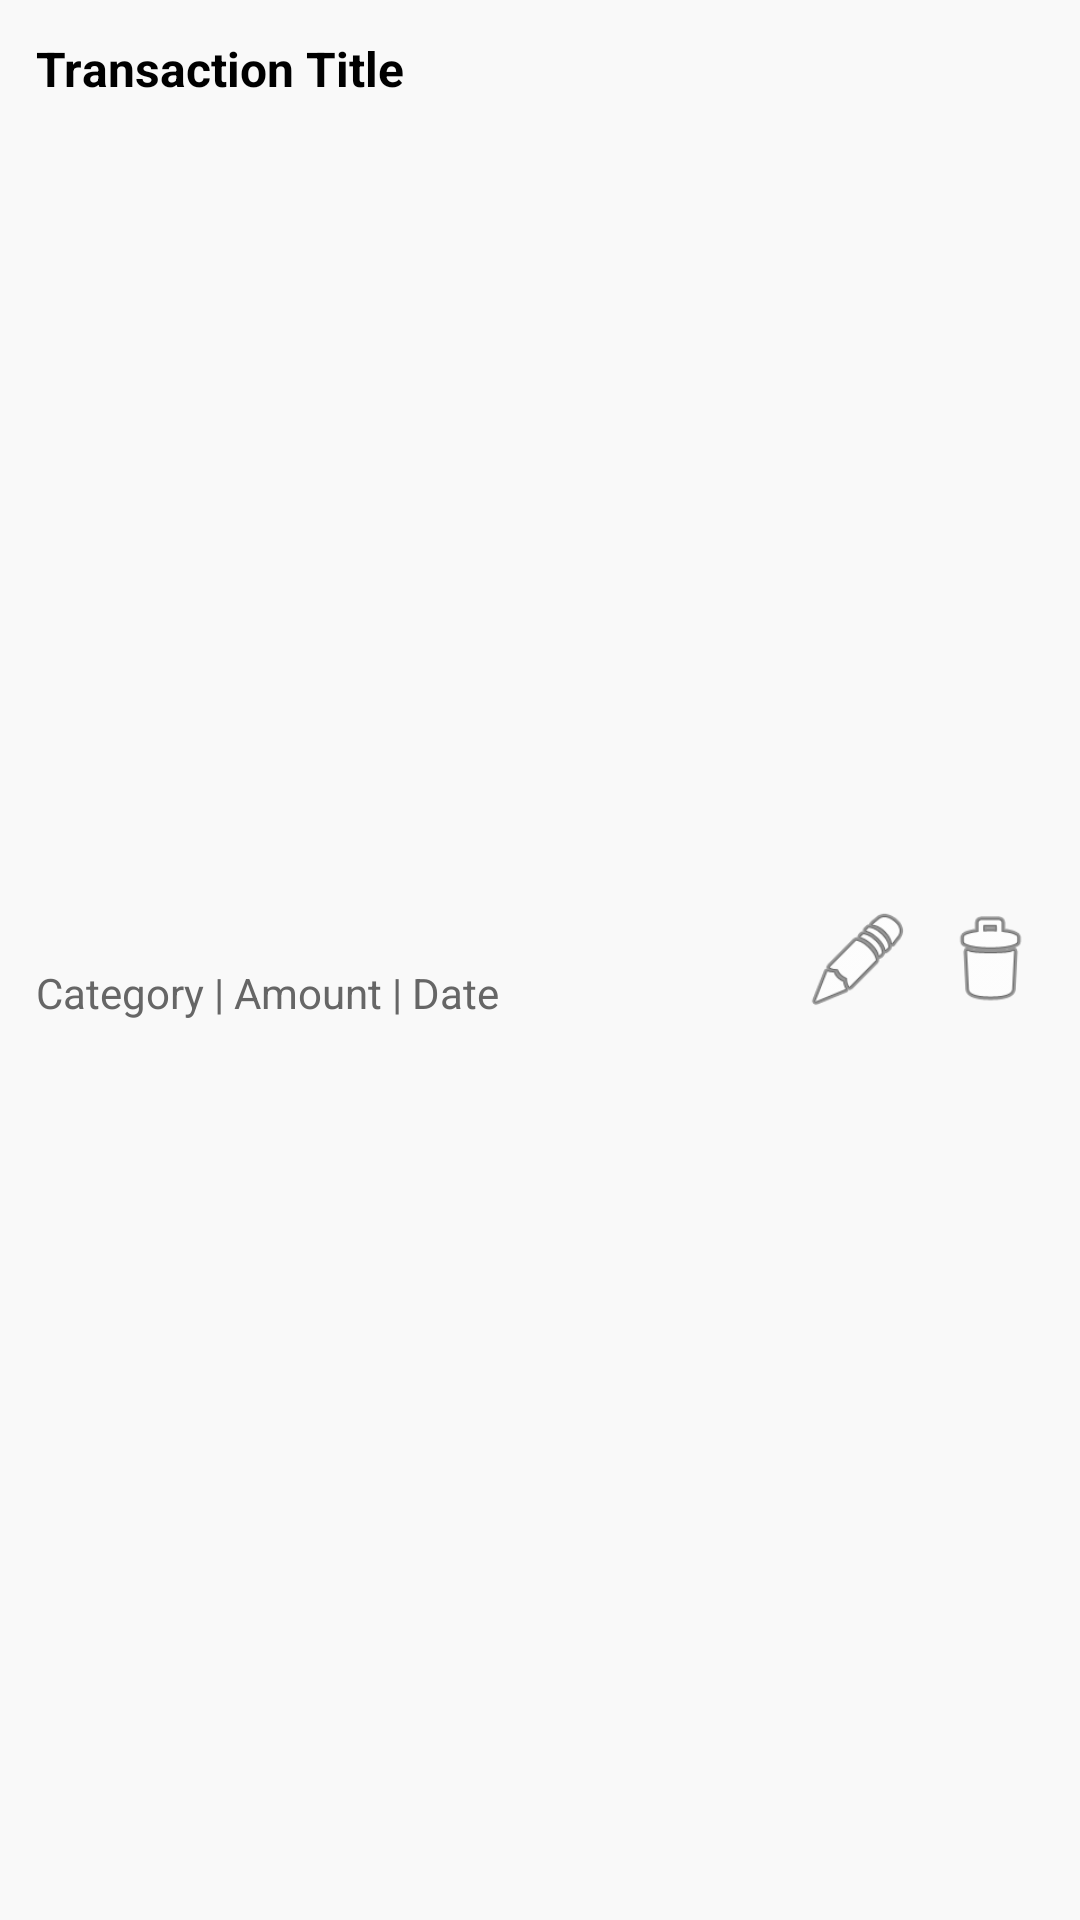

Icons on this 1080w x 1920h Android screen, each with the point to tap as point (x, y):
Delete: point (990, 958)
Edit: point (857, 959)
